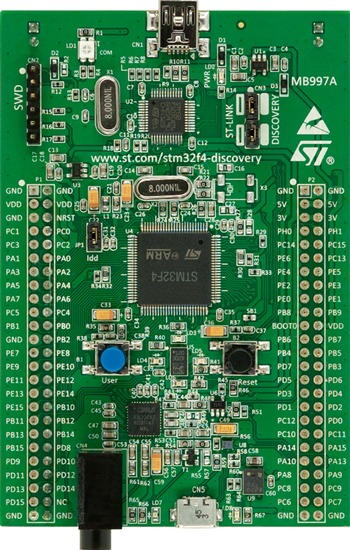STM32F4-DISC: (0, 0, 350, 550)
